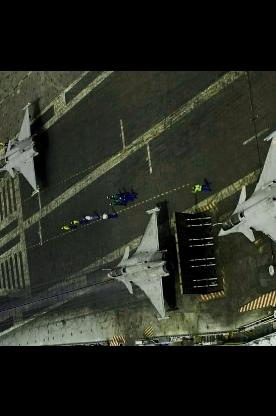RQ4: (210, 126, 273, 268), (100, 206, 172, 320), (0, 101, 42, 197)
